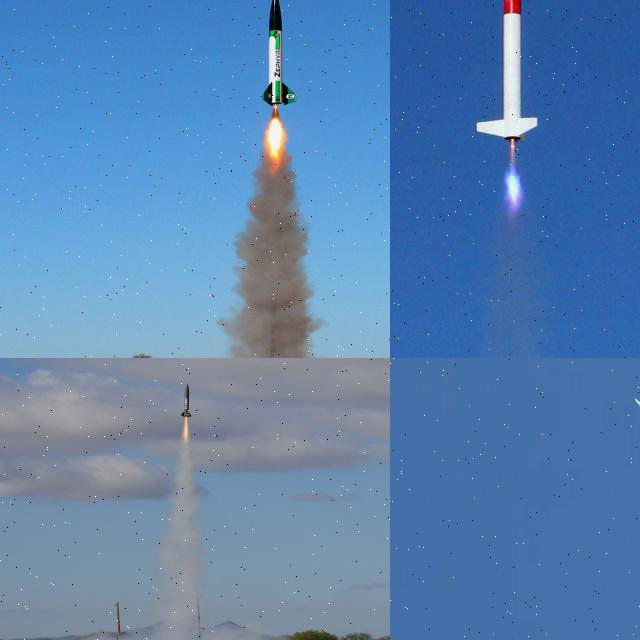Rocket: (475, 0, 540, 143), (261, 0, 298, 106), (181, 383, 192, 418), (634, 396, 636, 401)
